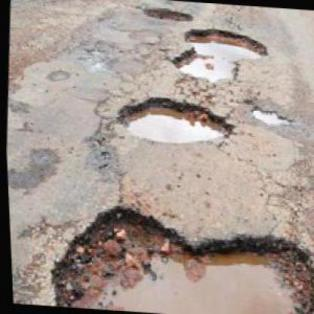Hueco: (112, 92, 240, 146), (169, 24, 270, 85), (140, 7, 195, 23), (249, 106, 292, 126)
